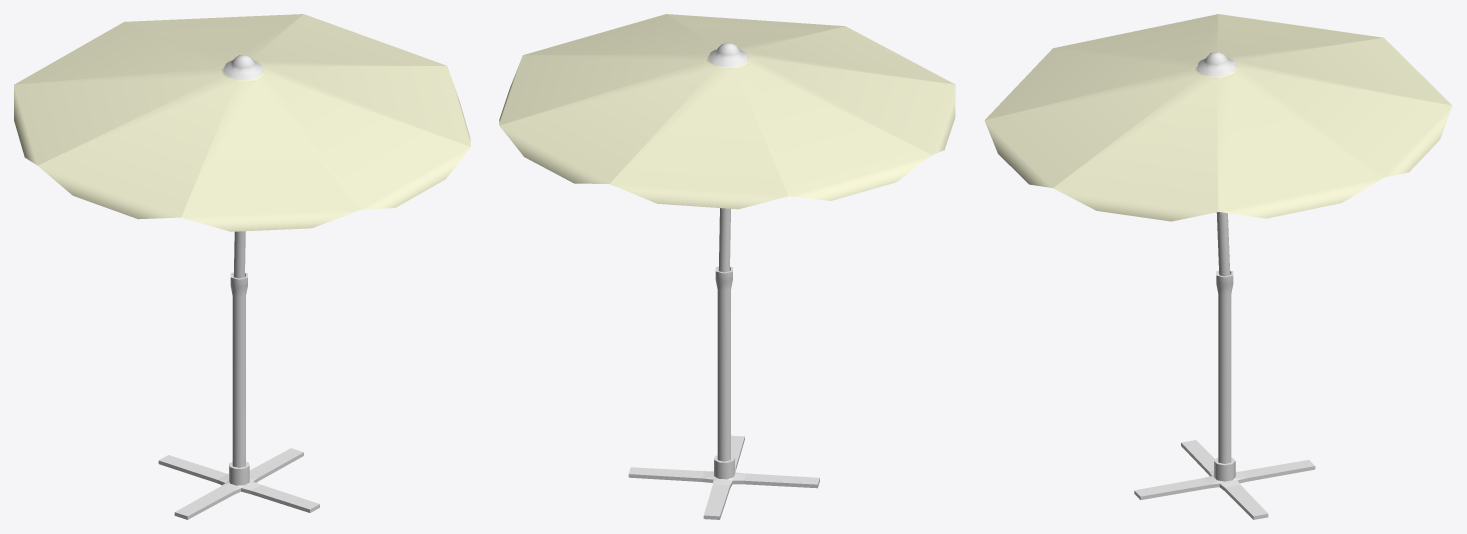
Rendered from Umbrella_01.fbx.
The picture shows the model from 3 angles, left to right: view 1: azimuth 30°, elevation 25°; view 2: azimuth 150°, elevation 25°; view 3: azimuth 270°, elevation 25°; orthographic projection.
Visible parts, largest first — view 1: SM_umbrella_01; view 2: SM_umbrella_01; view 3: SM_umbrella_01.
Part boxes in pixels (<box>): SM_umbrella_01: <box>14,14,470,519</box>; SM_umbrella_01: <box>499,14,955,519</box>; SM_umbrella_01: <box>984,14,1452,519</box>.
Bounding box in the file's own units: 306 × 308 × 305.
1 material, 1 textured.
